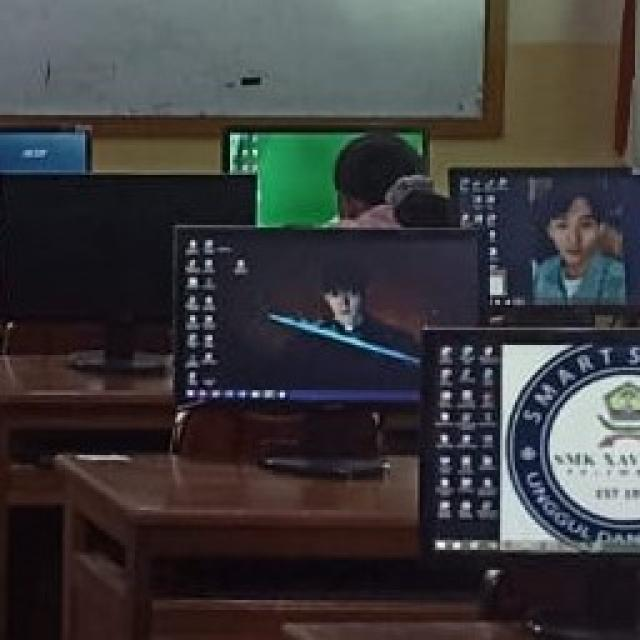offscreen: (0, 177, 254, 319)
onscreen: (175, 228, 479, 404), (422, 329, 640, 558), (451, 169, 640, 306), (230, 132, 362, 226), (0, 131, 85, 174)
